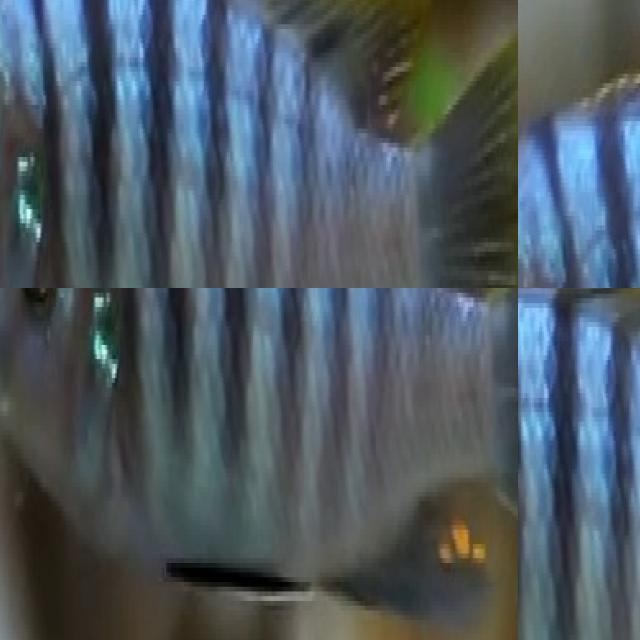fish: (0, 288, 518, 640), (0, 0, 518, 288), (518, 288, 640, 640)
